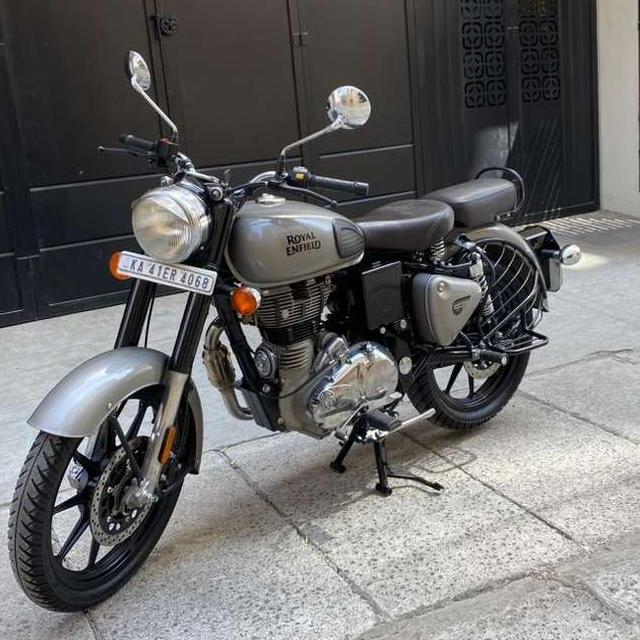Indian_Number_Plate: (119, 253, 215, 294)
